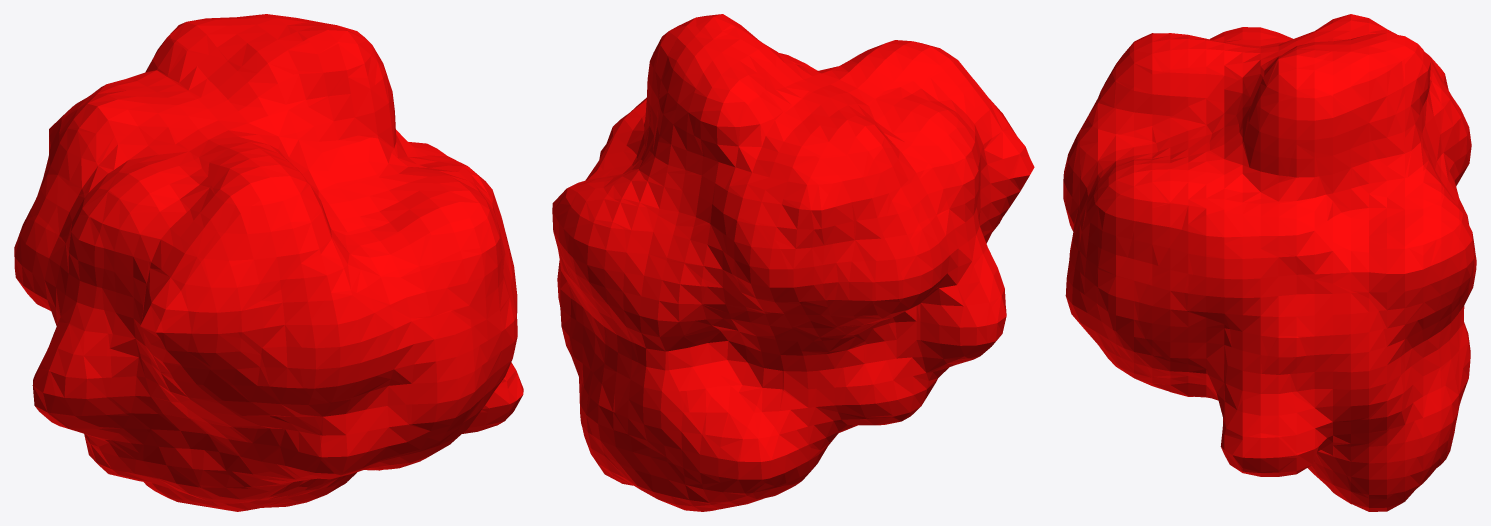
The model's file is add_coarse.dae.
3 renders of one model, left to right at view 1: azimuth 30°, elevation 25°; view 2: azimuth 150°, elevation 25°; view 3: azimuth 270°, elevation 25°, orthographic. The views are drawn at different scales.
Parts seen in each view (by area): view 1: add; view 2: add; view 3: add.
Part boxes in pixels (left/top/right/bottom): add: left=14, top=14, right=523, bottom=511; add: left=552, top=14, right=1034, bottom=511; add: left=1063, top=14, right=1476, bottom=511.
Bounding box in the file's own units: 55.83 × 55.92 × 48.1.
